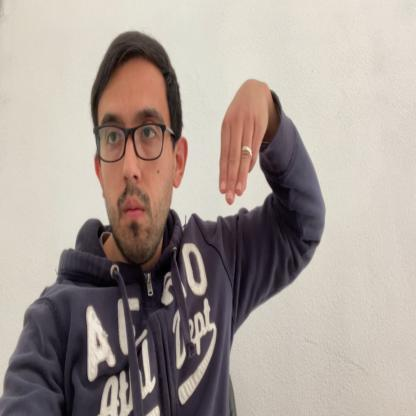M: (219, 82, 270, 204)
